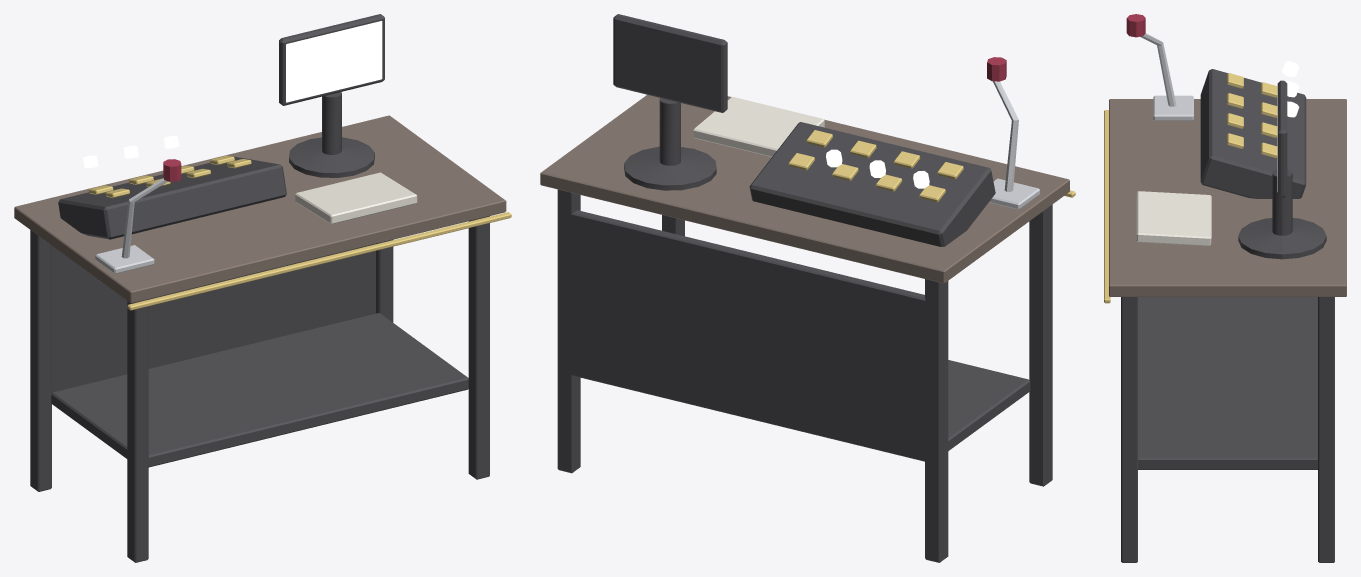
The model's file is theatre-stage-and-backstage-stage-manager-desk-with-pa-e34d027a.glb.
3 views of the same model, side by side, from view 1: azimuth 30°, elevation 25°; view 2: azimuth 150°, elevation 25°; view 3: azimuth 270°, elevation 25° (orthographic). The views are drawn at different scales.
Parts seen in each view (by area): view 1: stage-manager-desk-with-paging-panel; view 2: stage-manager-desk-with-paging-panel; view 3: stage-manager-desk-with-paging-panel.
Part boxes in pixels (x1,y1,x2,y2): stage-manager-desk-with-paging-panel: (14, 14, 511, 562); stage-manager-desk-with-paging-panel: (540, 14, 1075, 562); stage-manager-desk-with-paging-panel: (1104, 14, 1346, 562).
Size of the model in its own units: 1.32 by 1.36 by 0.715.
